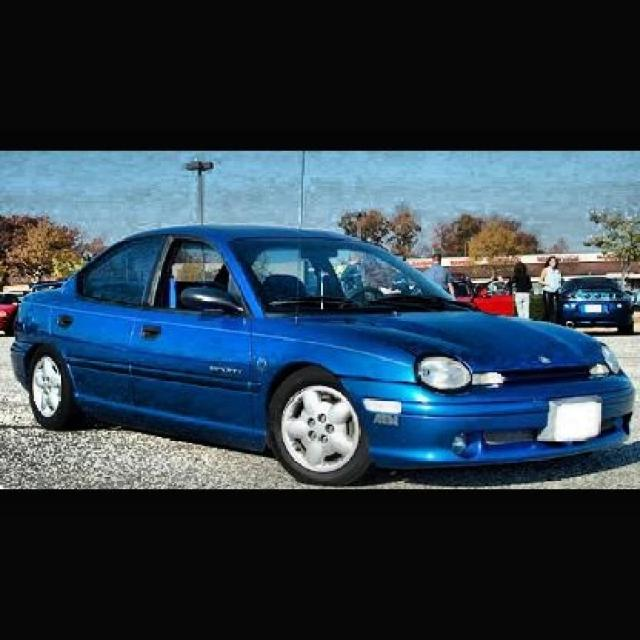blue: (17, 218, 636, 470)
